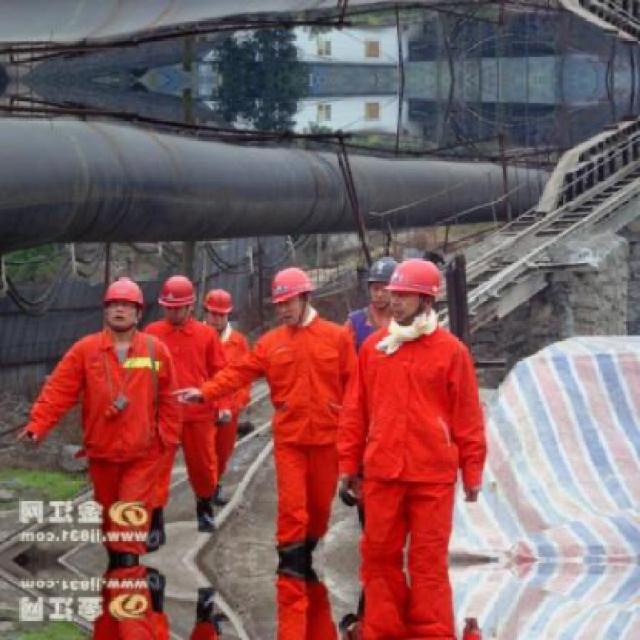con casco: (58, 258, 147, 344), (377, 251, 466, 333), (120, 266, 217, 329), (272, 253, 324, 333), (215, 287, 245, 323)
